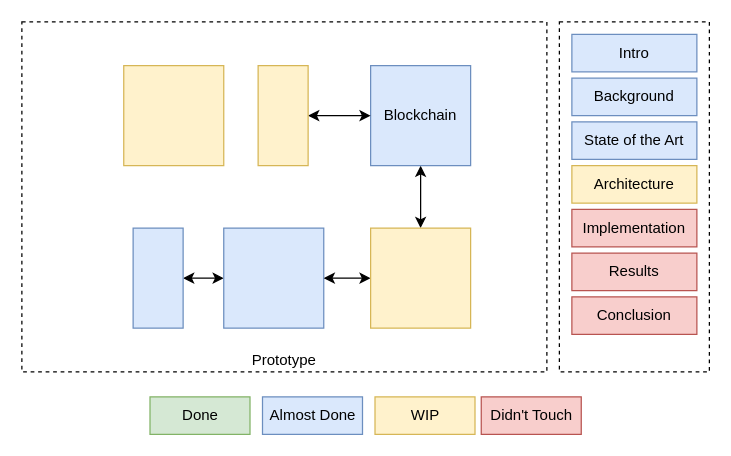
The diagram is 731 pixels wide and 456 high, and some of its shapes have lost their labels. Here are the shapes that lost their labels. From the top down, the box of each, then its label:
(122, 64, 224, 166): CLI
(257, 64, 308, 166): APP Trusted
(558, 21, 709, 372): Thesis
(132, 227, 183, 328): APP
(222, 227, 324, 328): OBU
(369, 227, 471, 328): RSU
